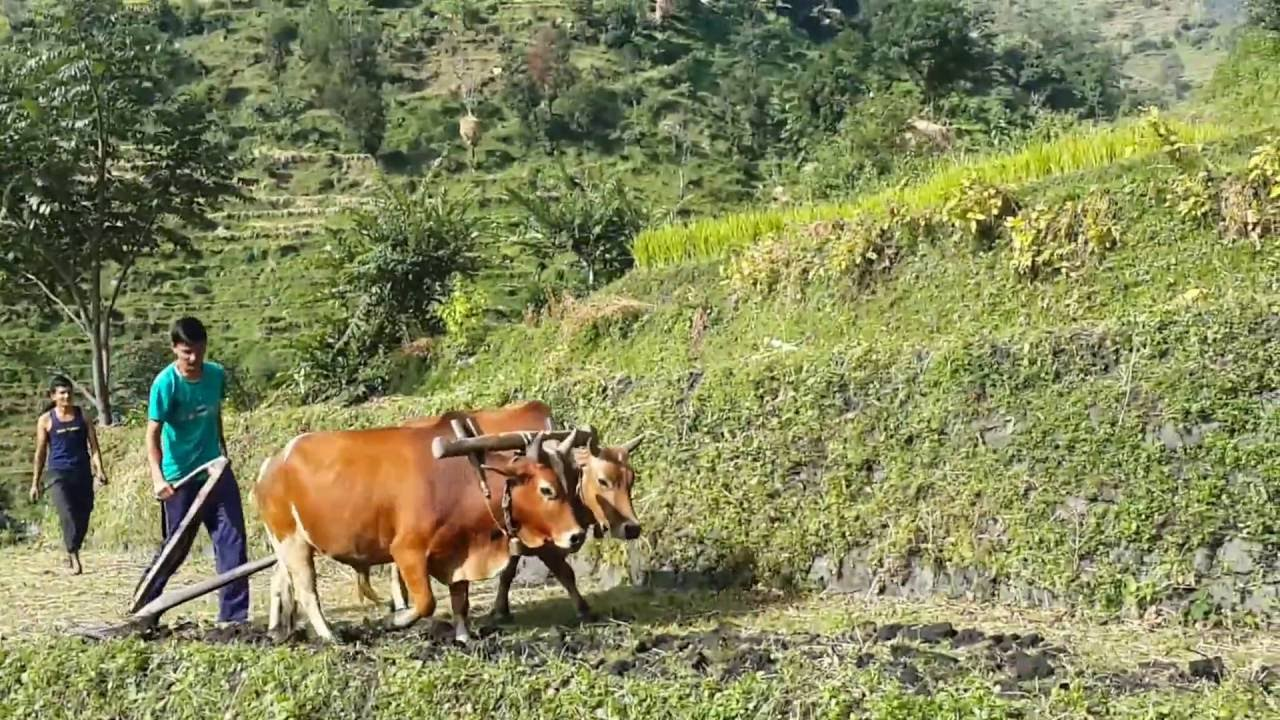human: (133, 314, 269, 634), (21, 374, 119, 570)
